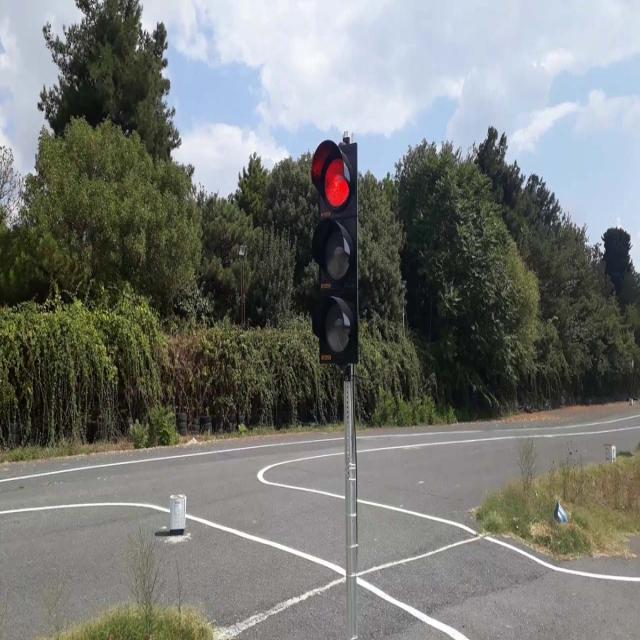kirmizi: (311, 139, 357, 358)
